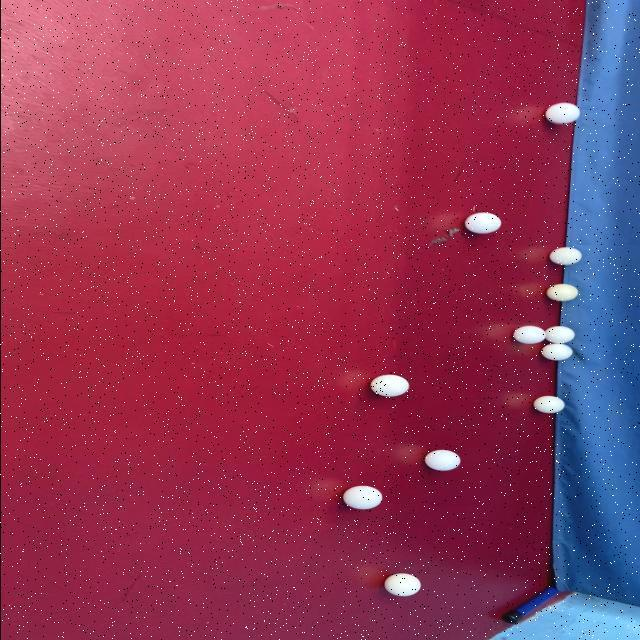ping-pong-ball: (338, 482, 386, 512), (380, 570, 422, 600), (540, 100, 584, 127), (418, 448, 466, 472), (367, 373, 411, 399), (460, 210, 502, 236), (529, 393, 567, 417), (544, 282, 582, 304), (546, 246, 586, 266), (512, 325, 548, 346), (539, 344, 573, 362), (546, 326, 576, 344)
